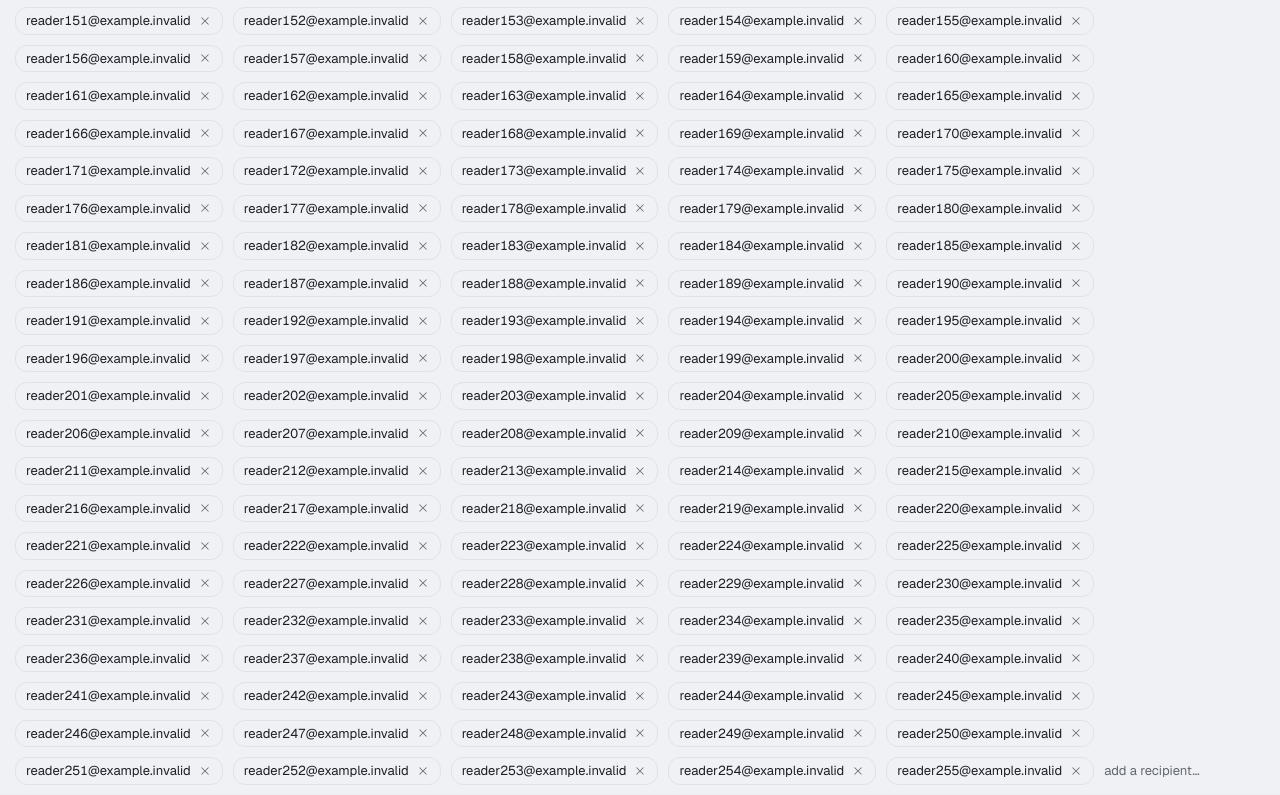
Scenario: RecipientField › says what one header takes once it is full
(page scrolled)
Type "ada@example.invalid" into the dropdown labelled "To".
click(1185, 771); type("ada@example.invalid")  # box [1104,761,1265,780]
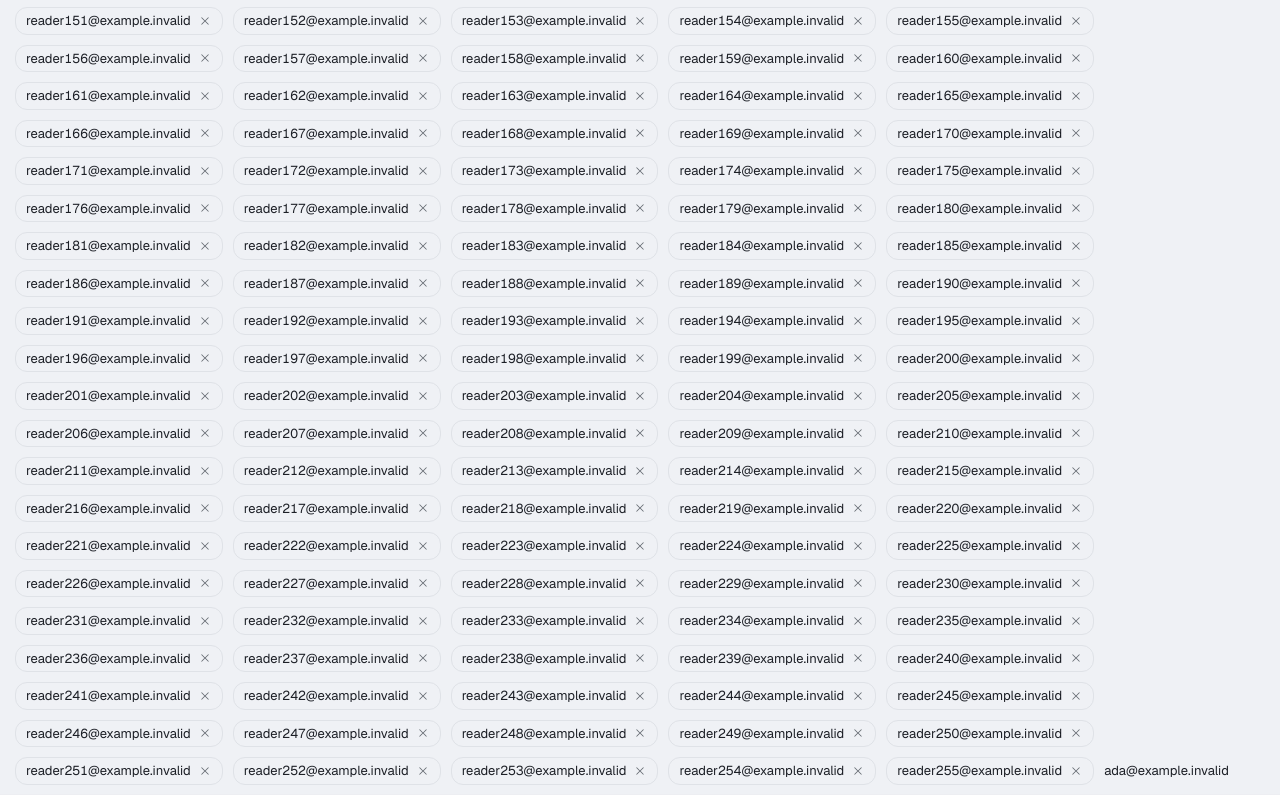
Press Enter in the dropdown labelled "To", box [1104,761,1265,780]
(page scrolled)
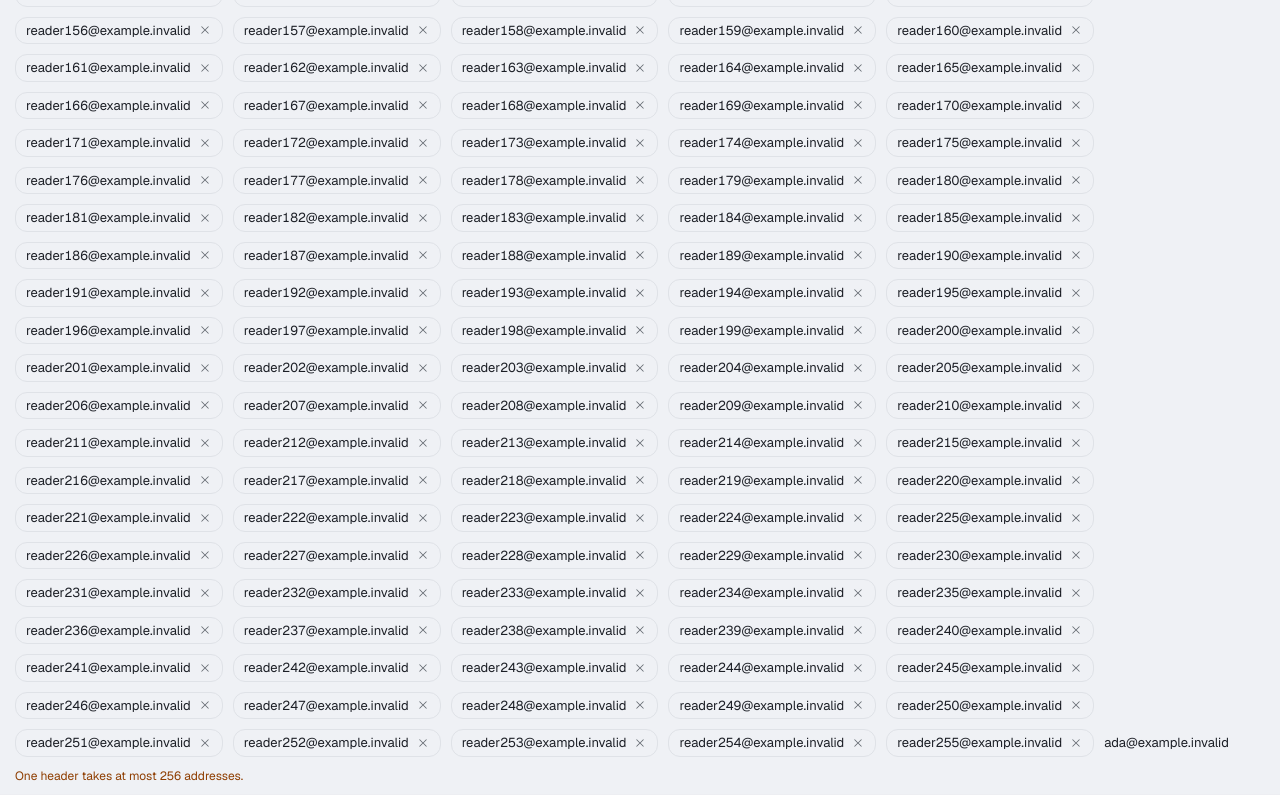
Now the message shows "at most 256 addresses", box [15,768,243,784]
